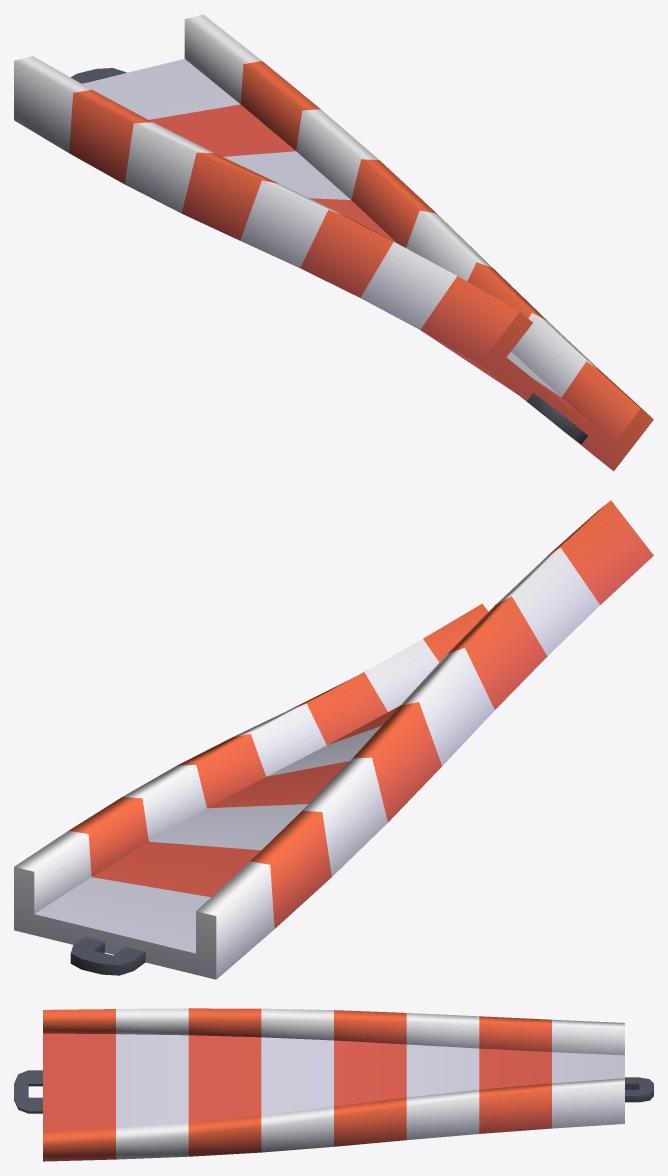
The model's file is track-striped-narrow-straight-skew-left.glb.
3 views of the same model, one above another, from view 1: azimuth 30°, elevation 25°; view 2: azimuth 150°, elevation 25°; view 3: azimuth 270°, elevation 25° (orthographic). The views are drawn at different scales.
Parts seen in each view (by area): view 1: track-striped-narrow-straight-skew-left; view 2: track-striped-narrow-straight-skew-left; view 3: track-striped-narrow-straight-skew-left.
Part boxes in pixels (x1,y1,x2,y2): track-striped-narrow-straight-skew-left: (14,14,653,471); track-striped-narrow-straight-skew-left: (14,500,653,979); track-striped-narrow-straight-skew-left: (14,1008,653,1161).
Bounding box in the file's own units: 3.25 × 2.76 × 13.2.
1 material, 1 textured.
